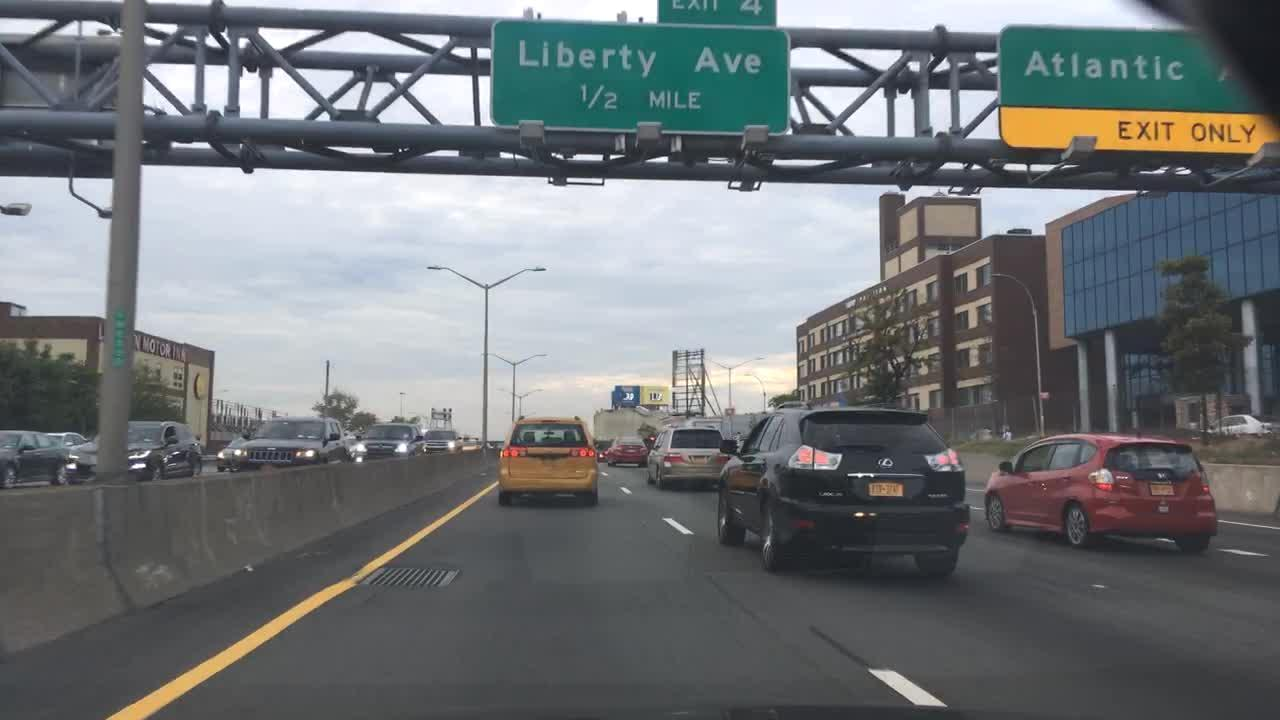Honda: (1153, 470, 1171, 483)
lexus: (875, 456, 896, 470)
